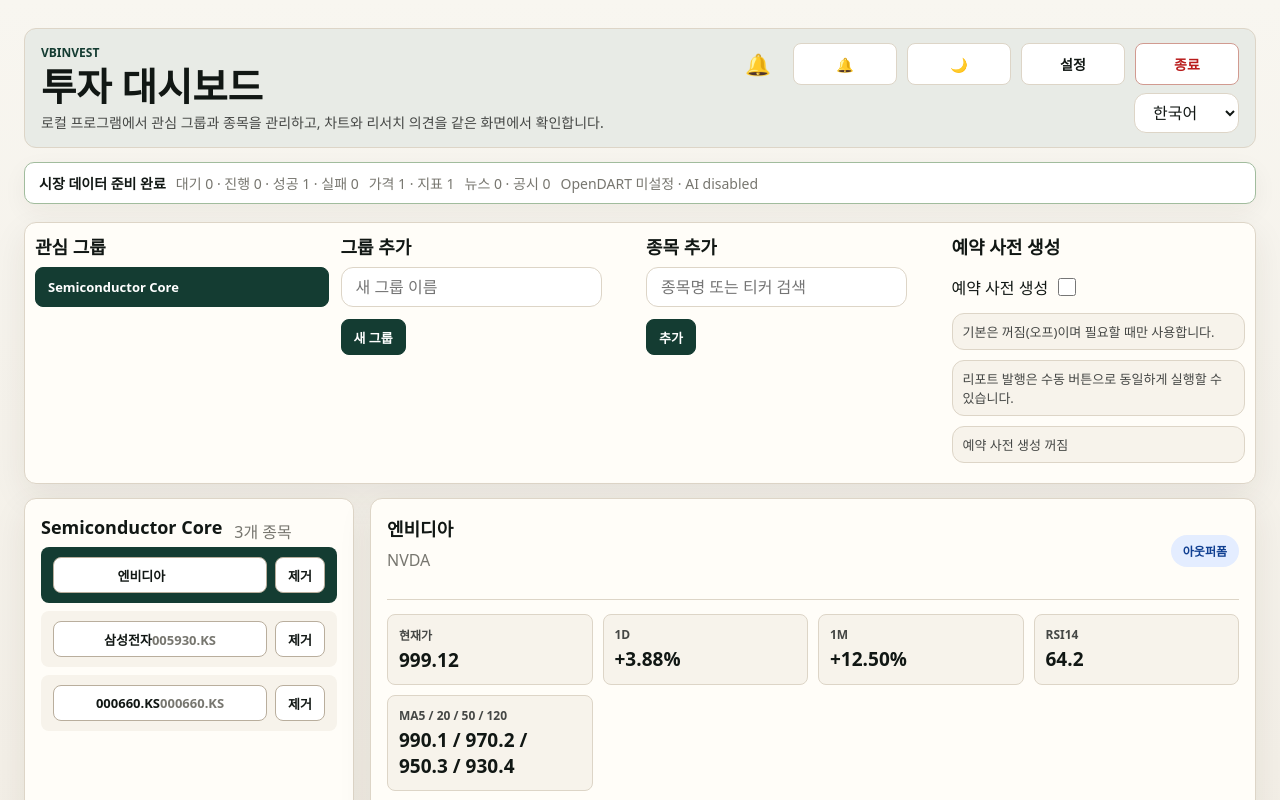
it: WatchlistDashboard › does not add a symbol locally when POST /api/watchlists/{id}/assets fails
Expected: the button "새 그룹" is enabled, [340,319,406,355]
Type "AAPL" into the field named "새 종목 심볼" at x=776, y=287, box [646,267,907,307]
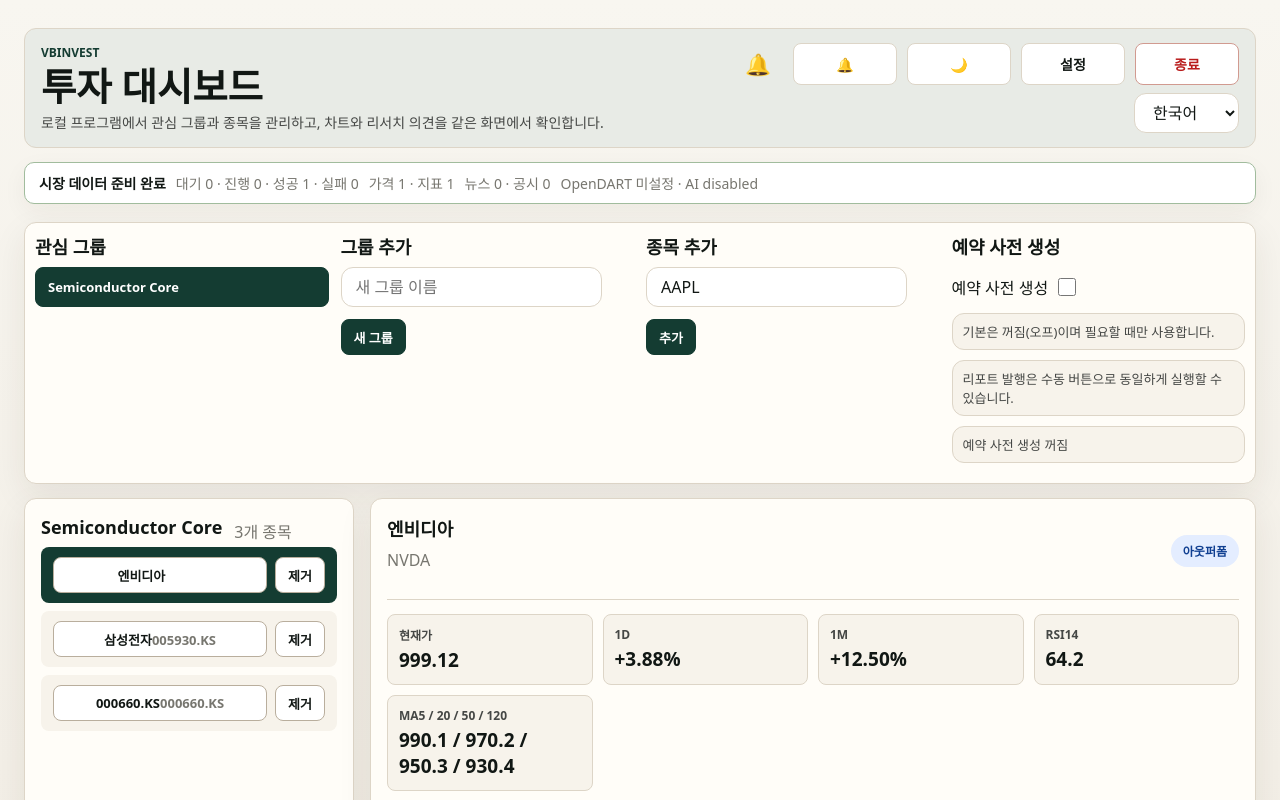
Click the button "추가" at x=671, y=337, box [646,319,696,355]
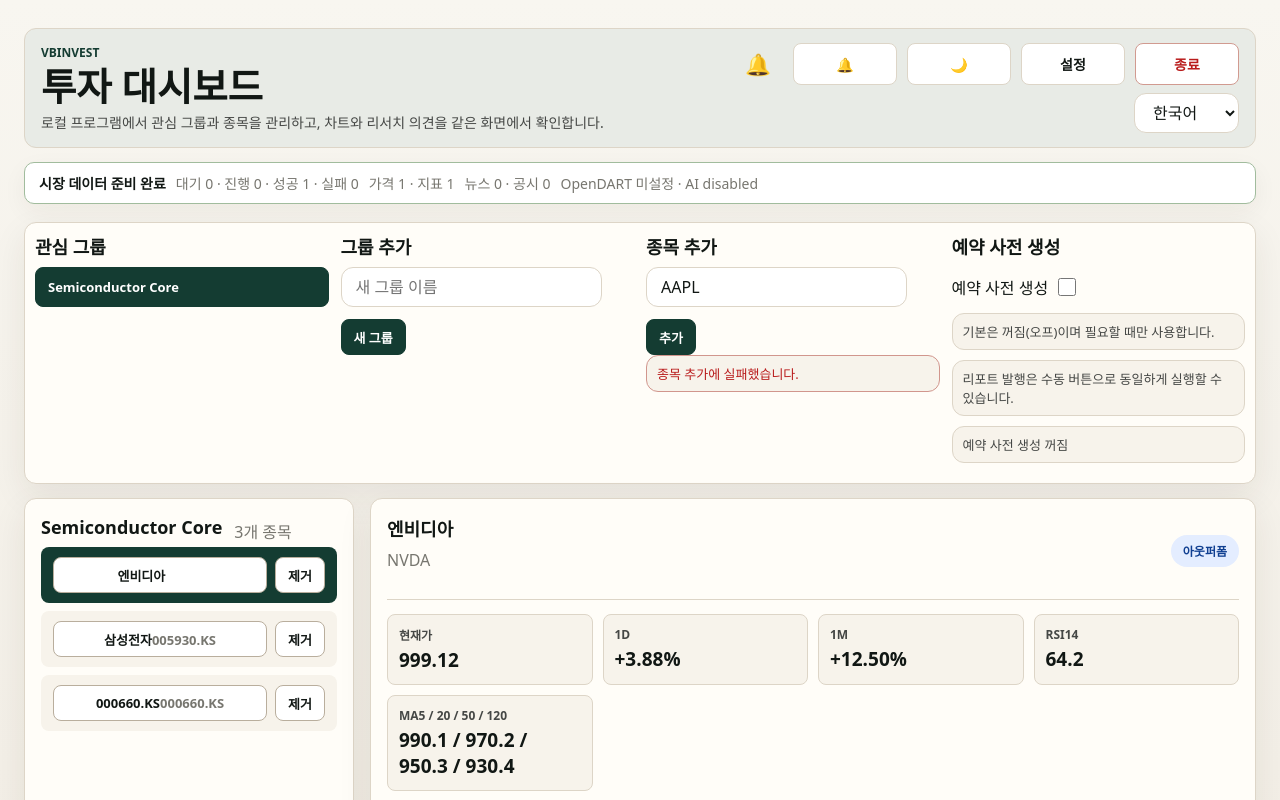
Now the text "종목 추가에 실패했습니다." is shown, box [646,355,940,392]
